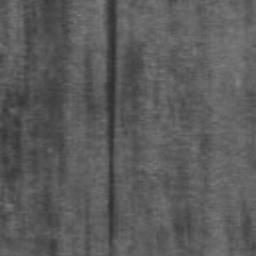Scratches: (104, 0, 119, 249)
